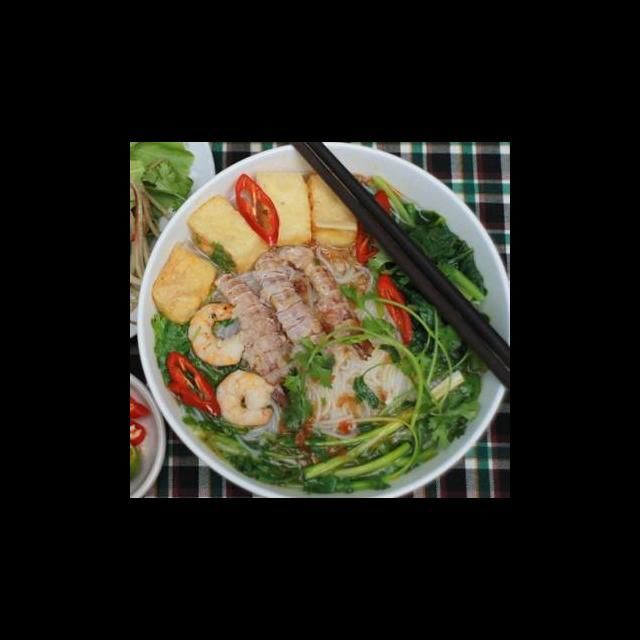bun: (287, 341, 423, 445), (312, 238, 377, 300)
bun hai san: (141, 175, 510, 498)
dau hu: (185, 191, 271, 277), (148, 239, 221, 328), (252, 167, 315, 251), (304, 168, 361, 250)
tom: (185, 299, 251, 368), (210, 367, 278, 430)
tom tit: (272, 240, 378, 365), (211, 270, 300, 387), (248, 246, 335, 360)
